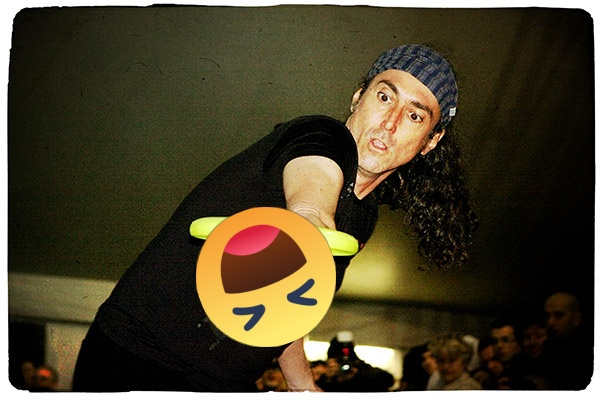haha: (196, 207, 336, 347)
